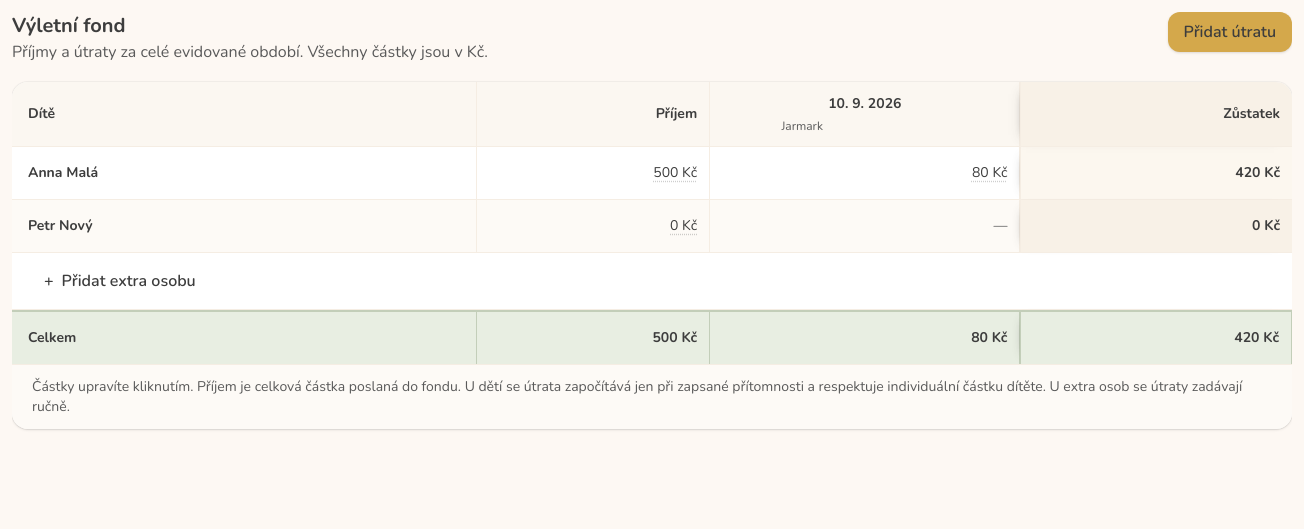
Scenario: editable trip fund › cancels with Escape, validates amounts and preserves a failed edit
Click the button with aria-label "Upravit útratu: Anna Malá, 10. 9. 2026": (990, 172) top-left (714, 151), bottom-right (1016, 195)
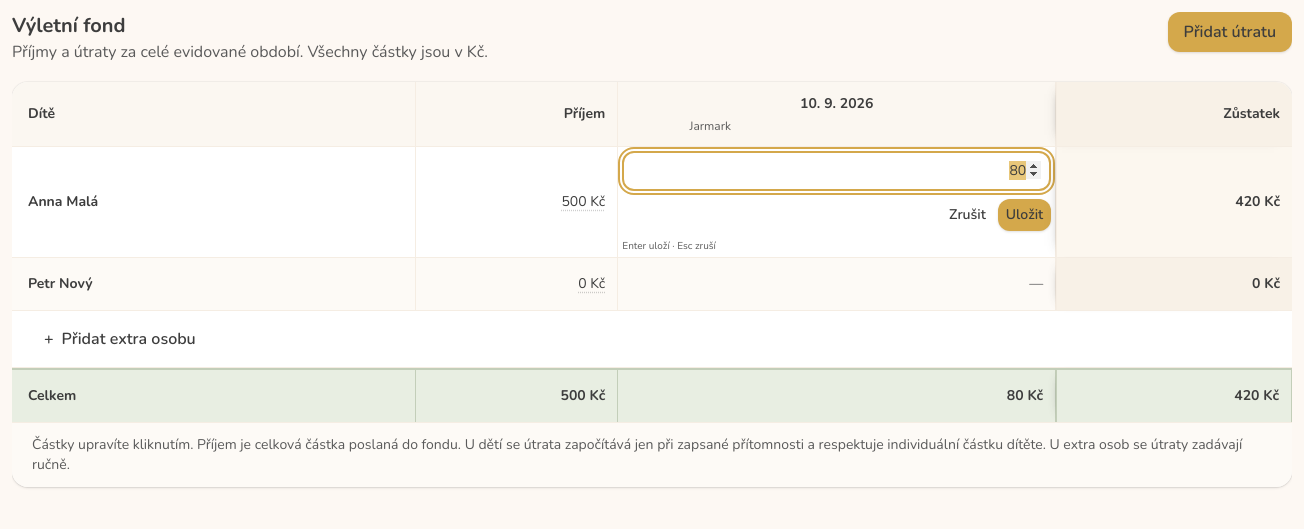
Replace the text in the number field with "50": (837, 171) top-left (622, 151), bottom-right (1051, 191)
Press Escape in the number field, box top-left (622, 151), bottom-right (1051, 191)
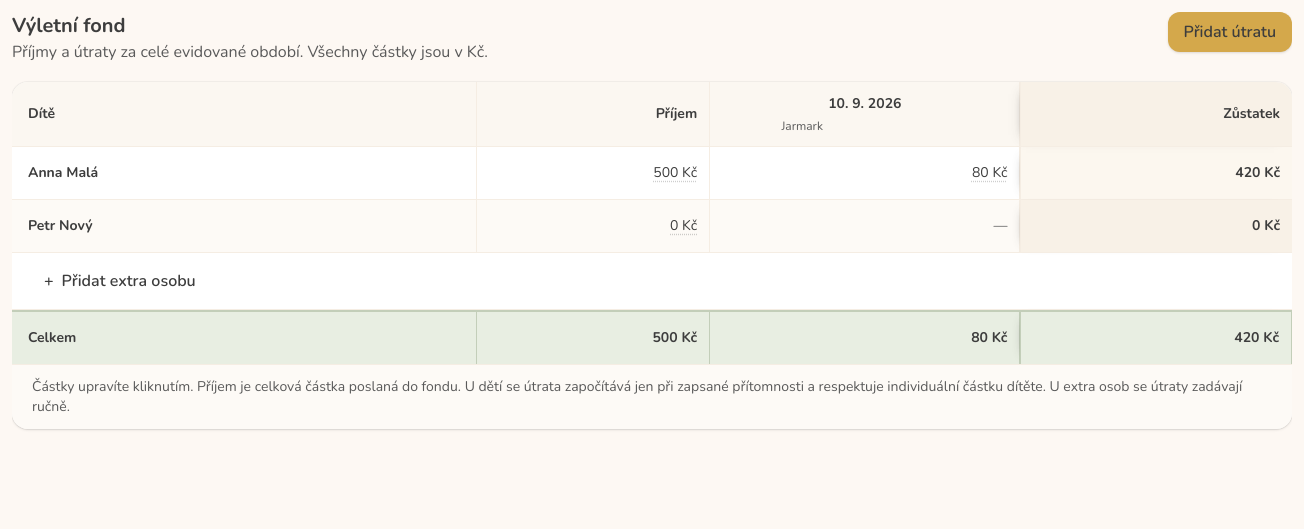
Click the button with aria-label "Upravit útratu: Anna Malá, 10. 9. 2026": (990, 172) top-left (714, 151), bottom-right (1016, 195)
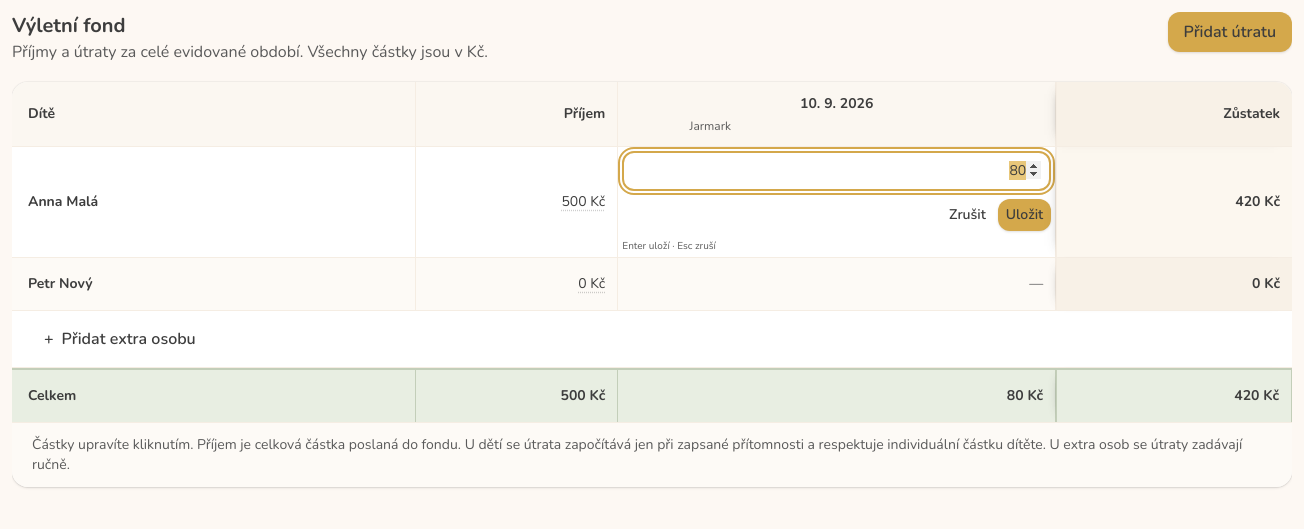
Expected: the number field holds "80"
Replace the text in the number field with "1.5": (837, 171) top-left (622, 151), bottom-right (1051, 191)
Press Enter in the number field, box top-left (622, 151), bottom-right (1051, 191)
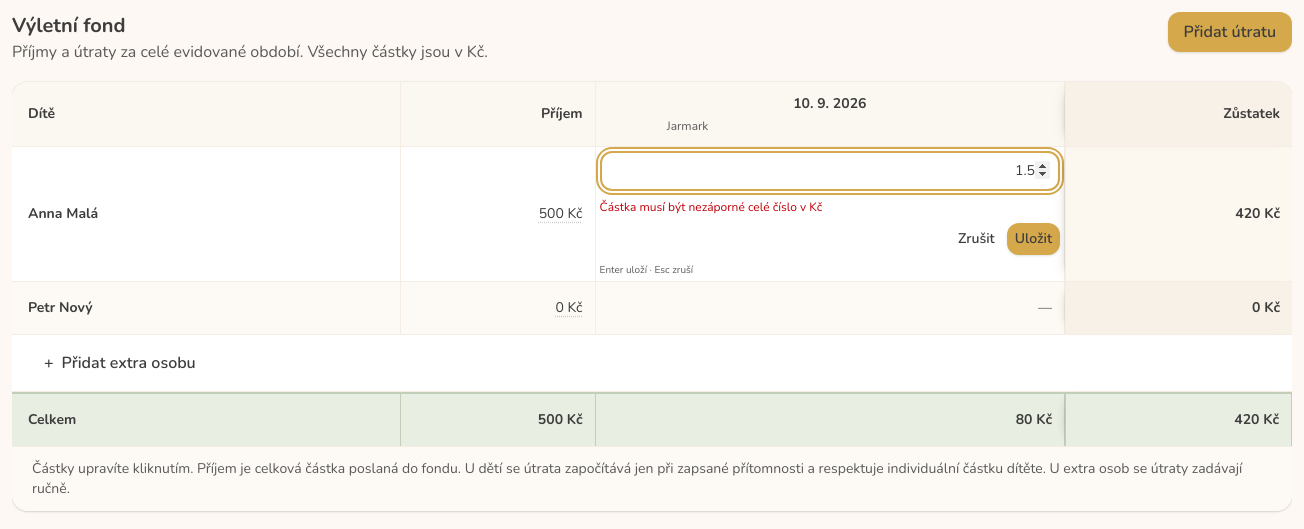
Replace the text in the number field with "50": (830, 171) top-left (600, 151), bottom-right (1060, 191)
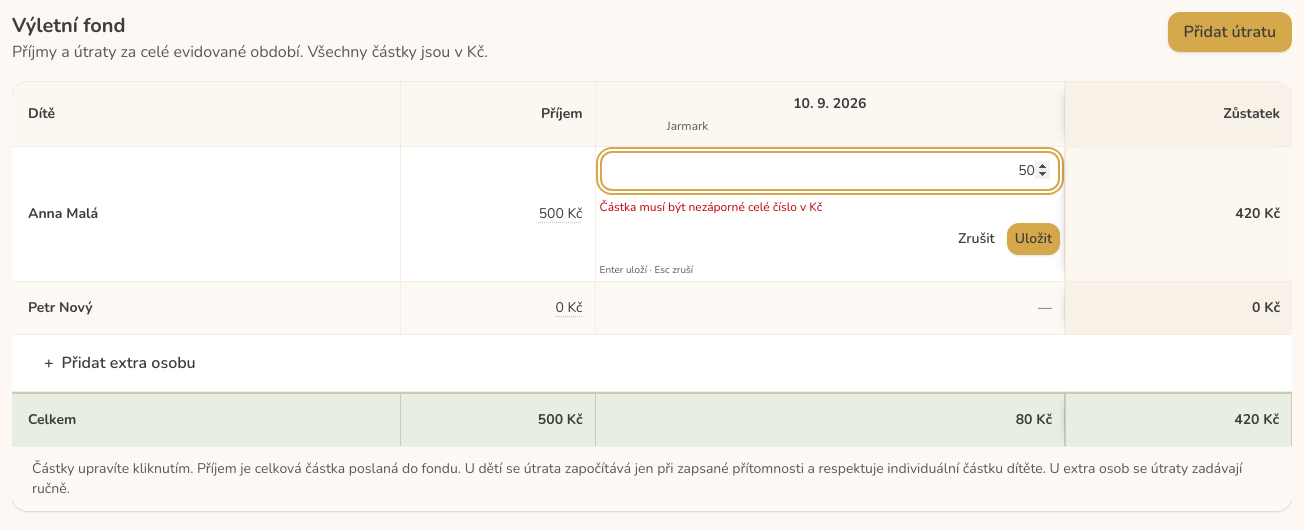
Press Enter in the number field, box top-left (600, 151), bottom-right (1060, 191)
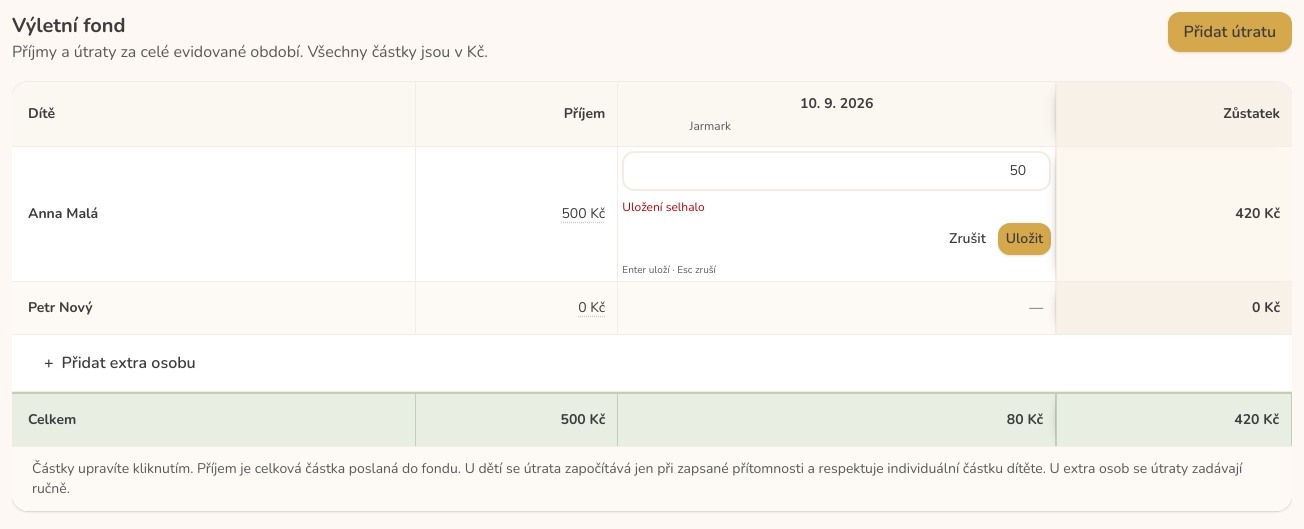
Expected: the text "Uložení selhalo" is shown, top-left (622, 199), bottom-right (705, 215)
